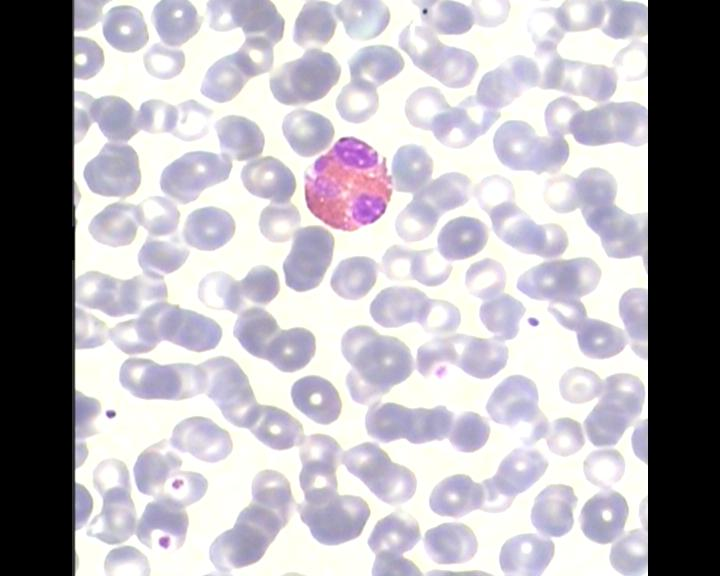eosi: (300, 133, 396, 234)
